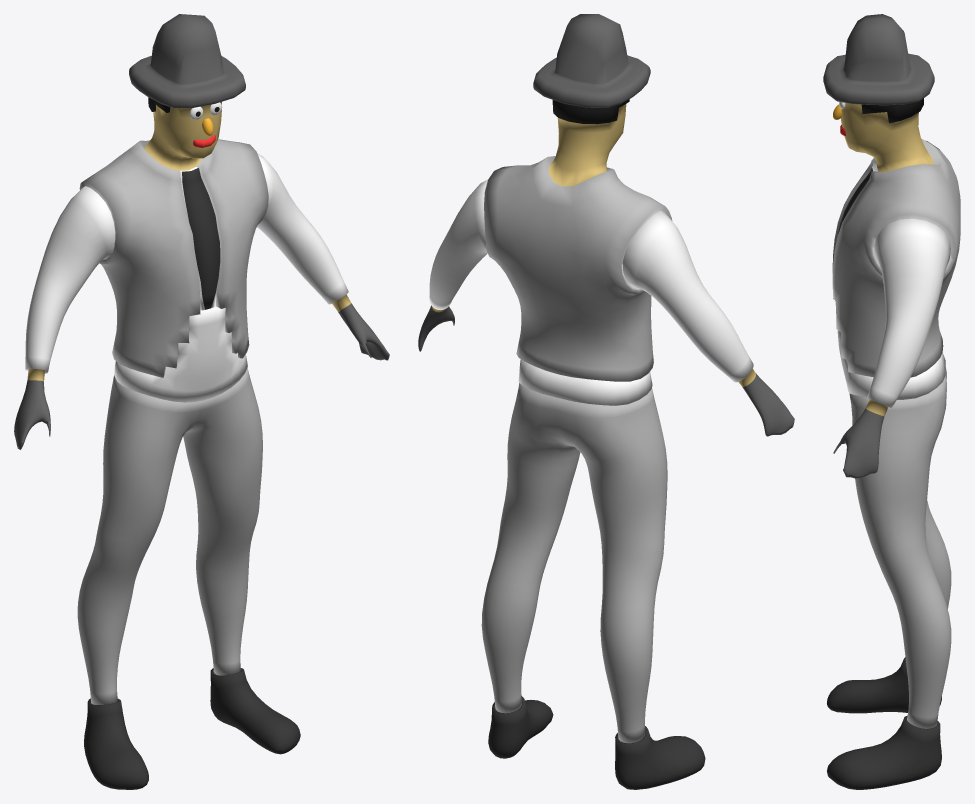
Rendered from Karakter6.fbx.
3 views of the same model, side by side, from view 1: azimuth 30°, elevation 25°; view 2: azimuth 150°, elevation 25°; view 3: azimuth 270°, elevation 25° (orthographic).
Parts seen in each view (by area): view 1: male_zbrush; view 2: male_zbrush; view 3: male_zbrush.
Part boxes in pixels (x1,y1,x2,y2): male_zbrush: [14, 14, 389, 789]; male_zbrush: [418, 14, 794, 789]; male_zbrush: [823, 14, 960, 789].
Bounding box in the file's own units: 157 × 300 × 51.39.
1 material, 1 textured.
